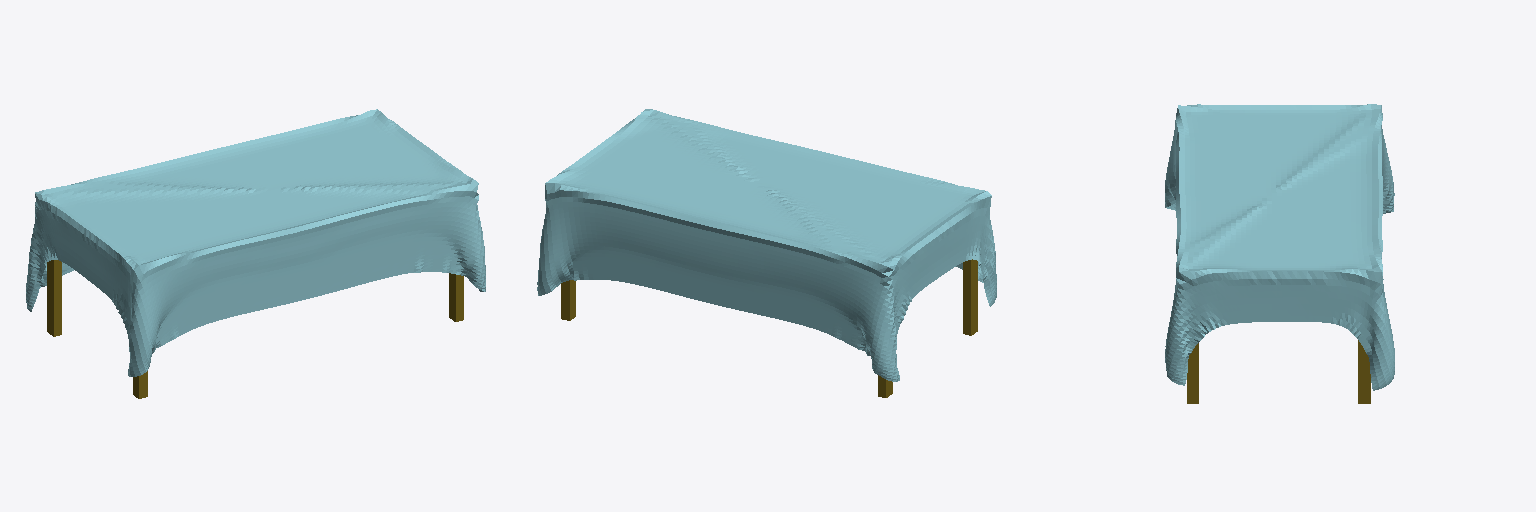
The picture shows the model from 3 angles: view 1: azimuth 30°, elevation 25°; view 2: azimuth 150°, elevation 25°; view 3: azimuth 270°, elevation 25°; orthographic projection.
Visible parts, largest first — view 1: Mesa:pPlane2; view 2: Mesa:pPlane2; view 3: Mesa:pPlane2.
Boxes of the visible parts, <box> form: Mesa:pPlane2: <box>26,109,485,398</box>; Mesa:pPlane2: <box>537,109,996,397</box>; Mesa:pPlane2: <box>1165,104,1394,403</box>.
Bounding box in the file's own units: 5.83 × 2.16 × 3.26.
Materials: 2 (2 with a texture image).